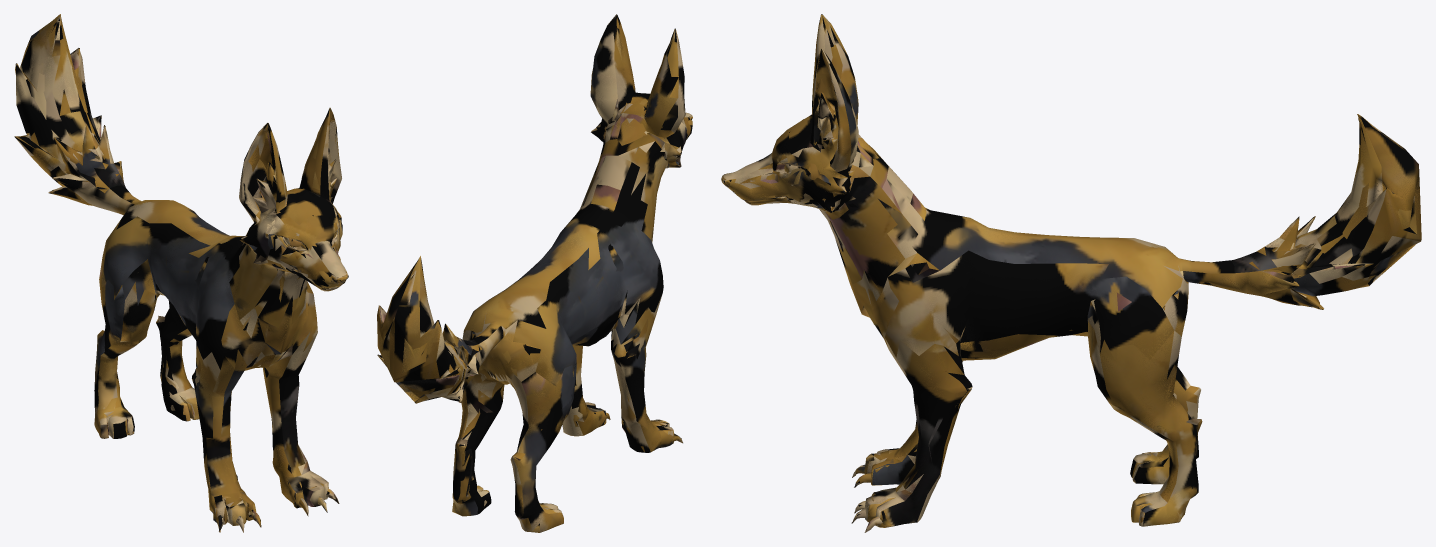
The model's file is creature_jackal.fbx.
3 renders of one model, left to right at view 1: azimuth 30°, elevation 25°; view 2: azimuth 150°, elevation 25°; view 3: azimuth 270°, elevation 25°, orthographic. The views are drawn at different scales.
Visible parts, largest first — view 1: creature_jackal_body, creature_jackal_head, creature_jackal_tail, creature_jackal_leg_fr, creature_jackal_leg_br, creature_jackal_leg_fl, creature_jackal_leg_bl; view 2: creature_jackal_body, creature_jackal_head, creature_jackal_tail, creature_jackal_leg_br, creature_jackal_leg_fr, creature_jackal_leg_bl, creature_jackal_leg_fl; view 3: creature_jackal_body, creature_jackal_head, creature_jackal_tail, creature_jackal_leg_bl, creature_jackal_leg_fl, creature_jackal_leg_br, creature_jackal_leg_fr.
Part boxes in pixels (x1,y1,x2,y2): creature_jackal_body: (30,156,317,369); creature_jackal_head: (229,107,348,327); creature_jackal_tail: (14,14,125,193); creature_jackal_leg_fr: (174,307,275,532); creature_jackal_leg_br: (94,259,164,438); creature_jackal_leg_fl: (263,332,339,516); creature_jackal_leg_bl: (156,300,199,421); creature_jackal_body: (412,155,663,403); creature_jackal_head: (590,14,692,242); creature_jackal_tail: (377,256,482,401); creature_jackal_leg_br: (495,357,576,532); creature_jackal_leg_fr: (571,295,682,452); creature_jackal_leg_bl: (452,369,504,516); creature_jackal_leg_fl: (562,345,610,436); creature_jackal_body: (835,165,1375,361); creature_jackal_head: (721,14,904,292); creature_jackal_tail: (1231,114,1421,283); creature_jackal_leg_bl: (1072,330,1202,526); creature_jackal_leg_fl: (851,324,1071,532); creature_jackal_leg_br: (1130,366,1200,484); creature_jackal_leg_fr: (852,360,962,487).
Size of the model in its own units: 120 by 402 by 543.
Materials: 1 (1 with a texture image).
